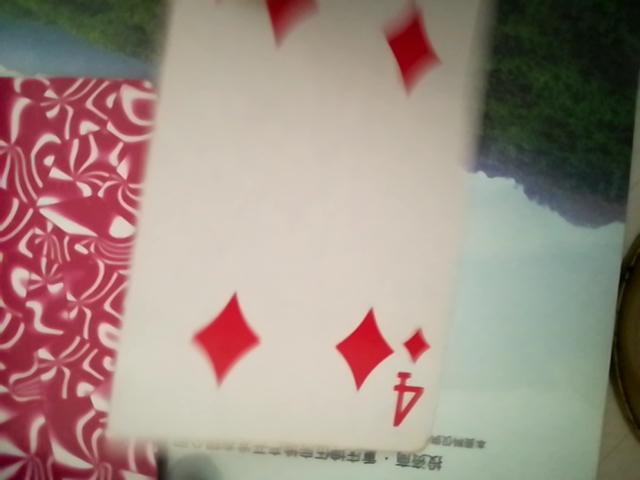fk 4: (87, 2, 495, 467)
